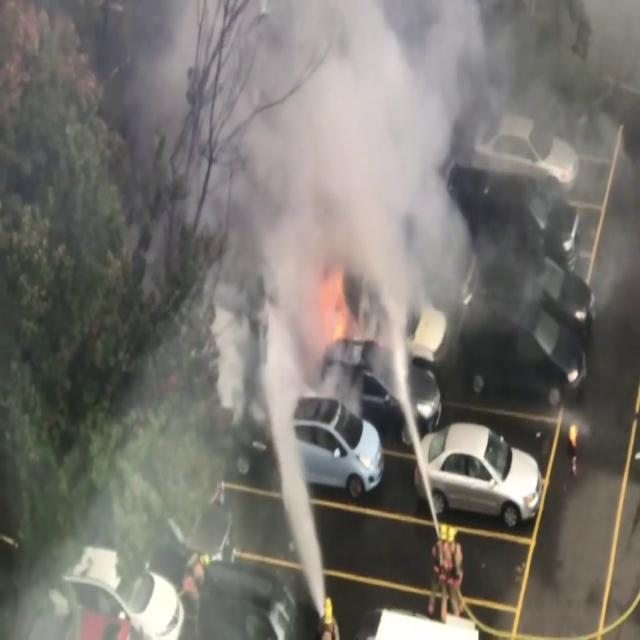Smoke: (6, 0, 634, 316)
